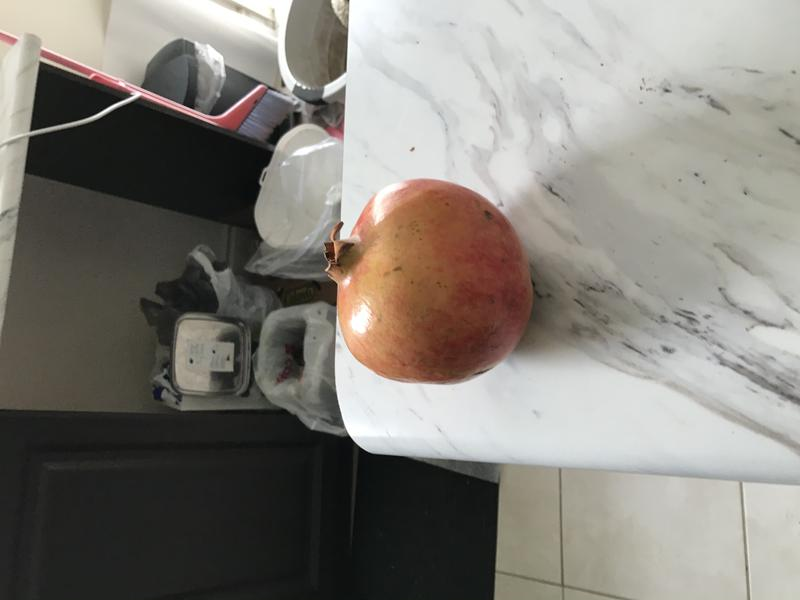pomegranate: (313, 168, 544, 399)
